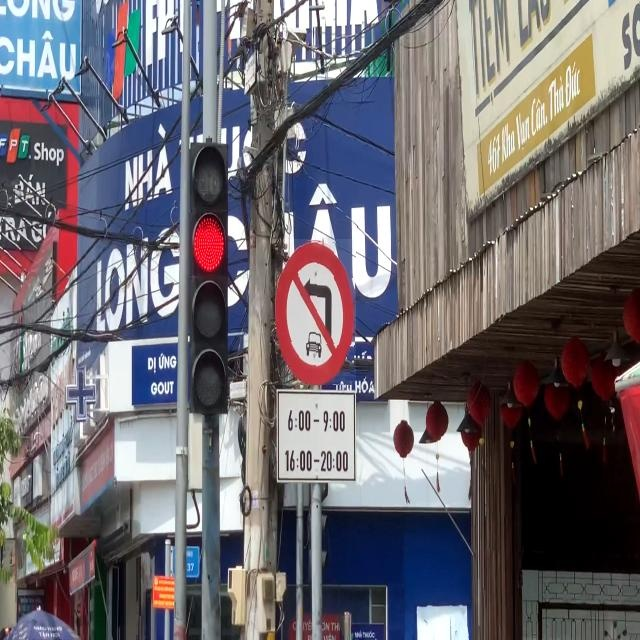bien_cam: (275, 239, 356, 385)
